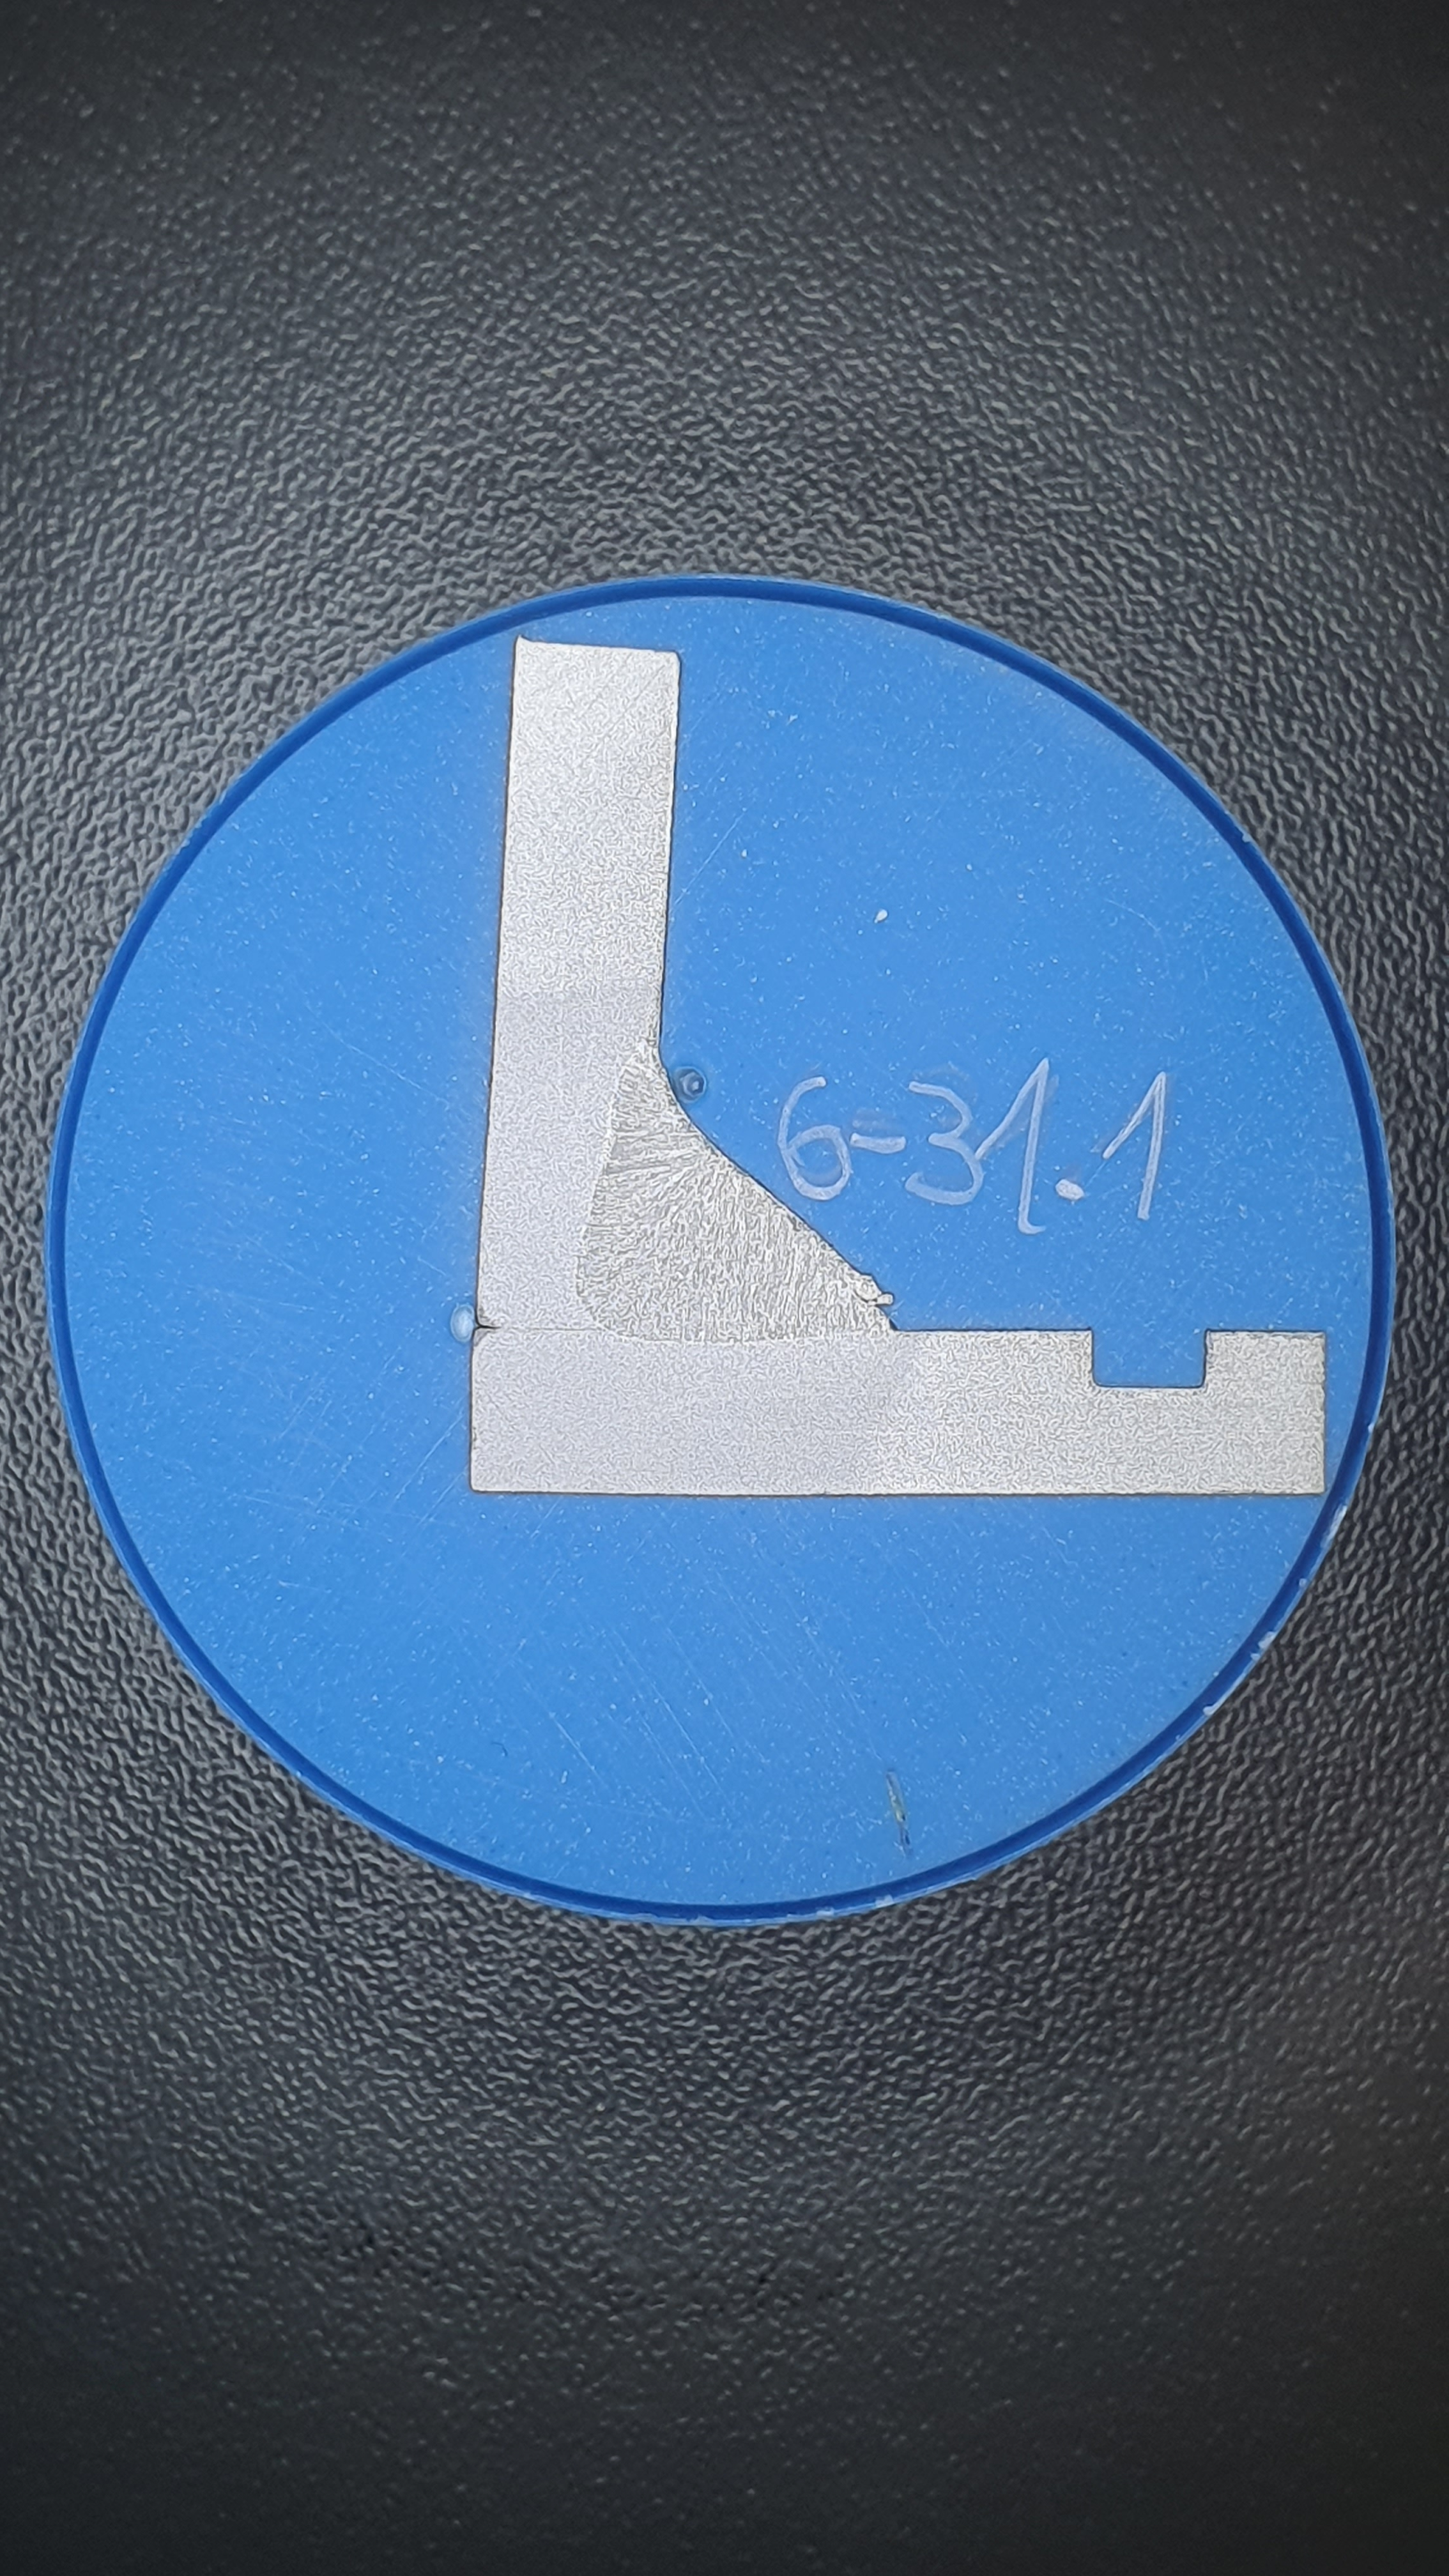Fusion: (575, 1024, 893, 1344)
Hintergrund: (65, 594, 1371, 1903)
Metall: (470, 634, 1326, 1496)
Nebenbereich: (502, 960, 929, 1484)
